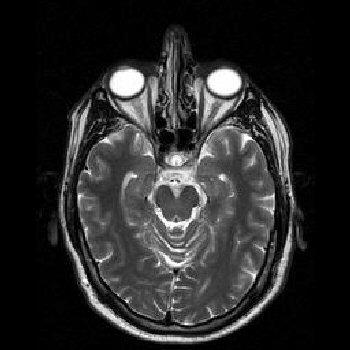Normal_Brain: (40, 10, 333, 350)
